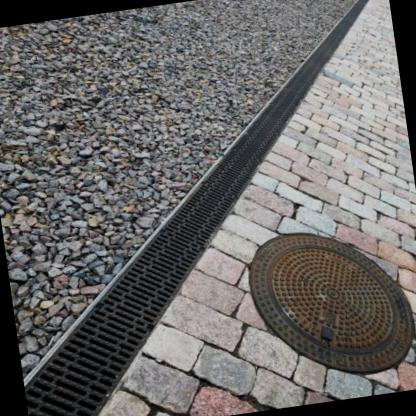manholes: (225, 198, 416, 408)
